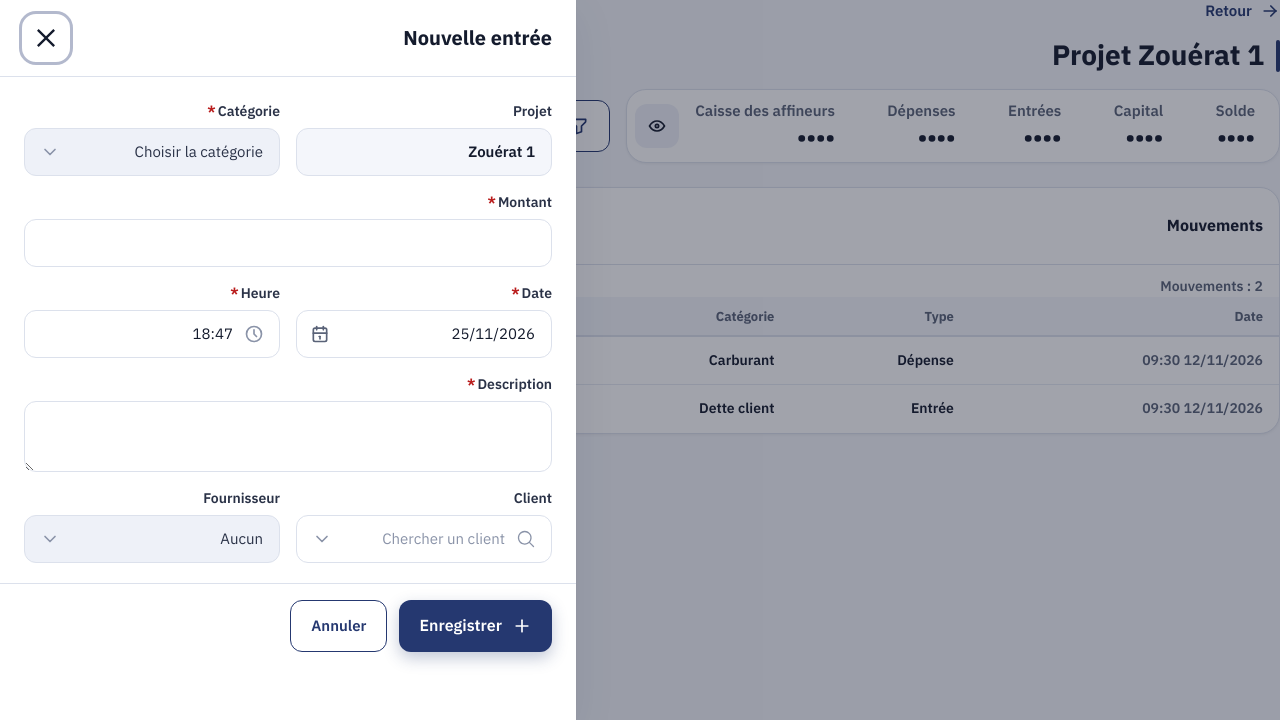
Scenario: CashProjectScreen › requires the category, an amount and a description
Click the button "Enregistrer" at (476, 626), box [400,600,552,652]
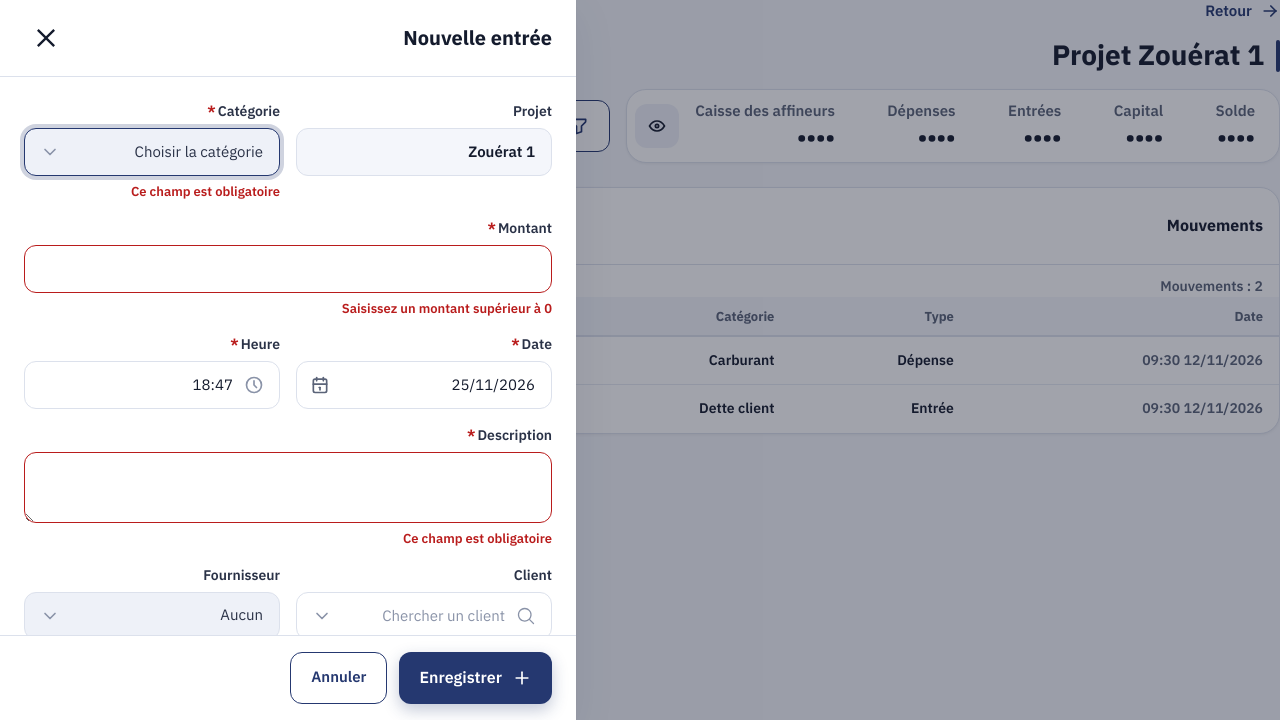
Check: the text "Ce champ est obligatoire" is shown 2 times, box [131,182,280,201]; [403,529,552,548]
Check: the text "Saisissez un montant supérieur à 0" is shown, box [342,298,552,318]
